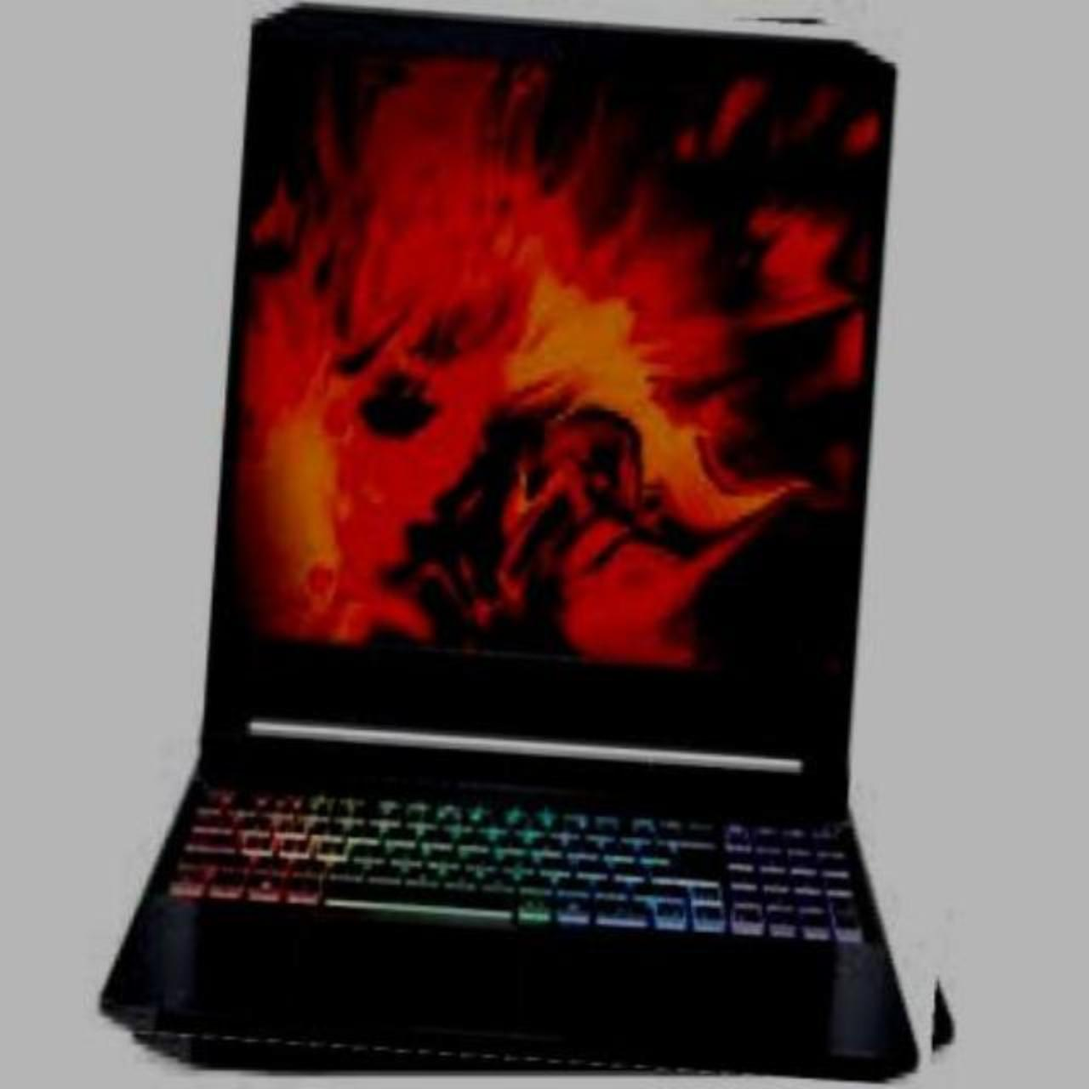laptop: (82, 1, 984, 1071)
